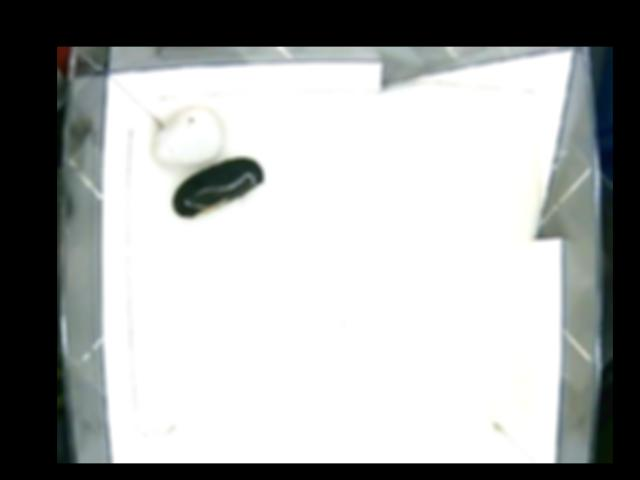Pebble: (175, 157, 267, 220), (154, 108, 222, 166)
